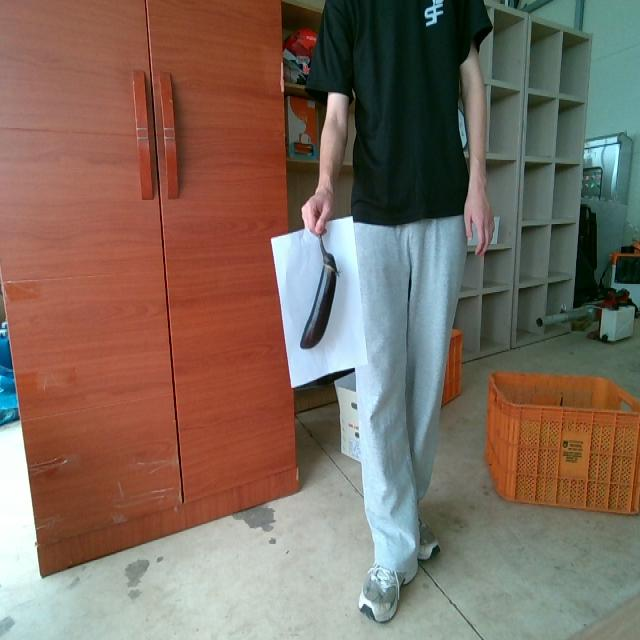Egg plant: (300, 236, 337, 348)
